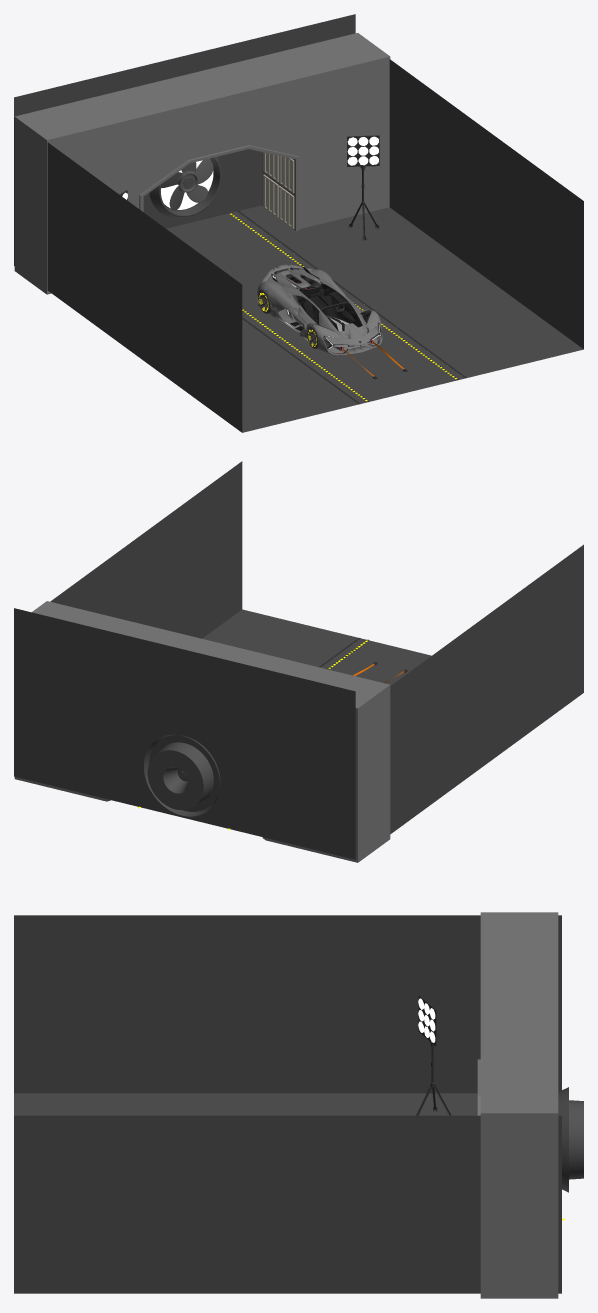
File: lamborghini-terzo-millennio.glb
The picture shows the model from 3 angles, top to bottom: view 1: azimuth 30°, elevation 25°; view 2: azimuth 150°, elevation 25°; view 3: azimuth 270°, elevation 25°; orthographic projection. The views are drawn at different scales.
Parts seen in each view (by area): view 1: Sol_0, Fond_1, chassis_carpaint_LOD2_51, Grilles_2, Circle_4, glass_glass_LOD2_96, Plane.002_144, chassis_details_LOD2_53, Elice_5, Plane_6, glass_detachable_glass_LOD2_98; view 2: Sol_0, Fond_1, Circle_4; view 3: Sol_0, Fond_1, Circle_4, Plane.002_144.
Boxes of the visible parts, x1,y1,x2,y2 form: Sol_0: (14, 14, 583, 432); Fond_1: (14, 33, 390, 294); chassis_carpaint_LOD2_51: (257, 268, 382, 355); Grilles_2: (249, 149, 294, 228); Circle_4: (149, 156, 221, 217); glass_glass_LOD2_96: (299, 283, 380, 348); Plane.002_144: (119, 135, 379, 240); chassis_details_LOD2_53: (271, 268, 380, 353); Elice_5: (161, 159, 213, 210); Plane_6: (230, 213, 458, 401); glass_detachable_glass_LOD2_98: (286, 274, 348, 324); Sol_0: (14, 461, 583, 859); Fond_1: (14, 601, 390, 862); Circle_4: (144, 734, 220, 816); Sol_0: (14, 915, 561, 1293); Fond_1: (477, 912, 558, 1298); Circle_4: (558, 1087, 583, 1192); Plane.002_144: (416, 995, 451, 1115).
Bounding box in the file's own units: 8.72 × 4.18 × 10.44.
Materials: 28 (2 with a texture image).
